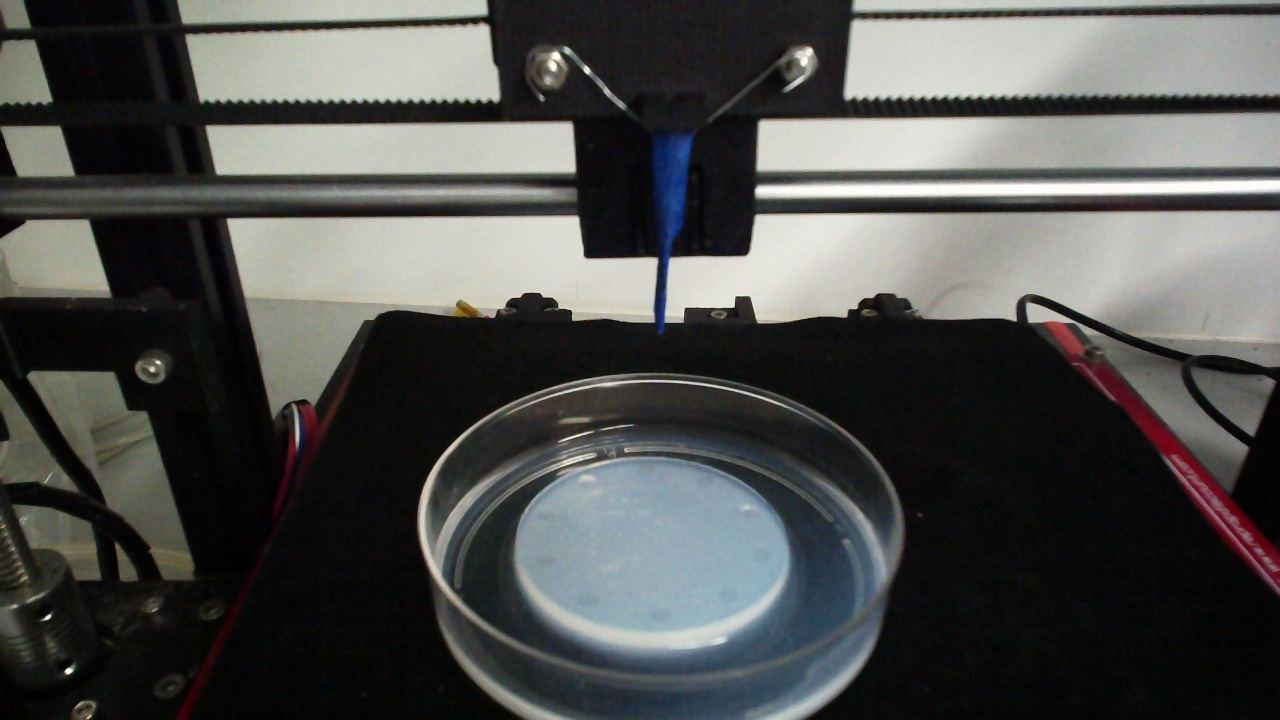groove: (715, 586, 739, 606), (574, 591, 599, 609), (749, 546, 771, 566), (645, 606, 672, 622), (737, 504, 762, 520), (532, 553, 558, 568), (577, 473, 596, 489), (534, 508, 554, 523), (695, 474, 715, 489), (634, 464, 657, 477)
needle: (654, 132, 693, 338)
